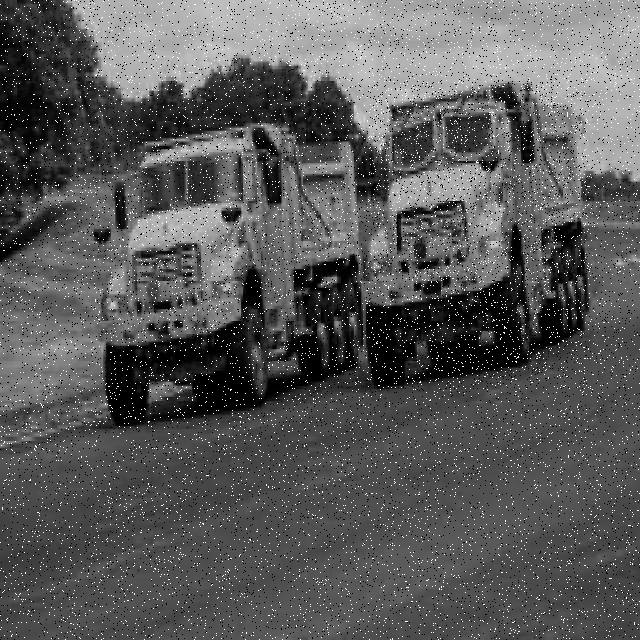Truck- Multi-Axle: (99, 123, 362, 428), (366, 81, 589, 389)
